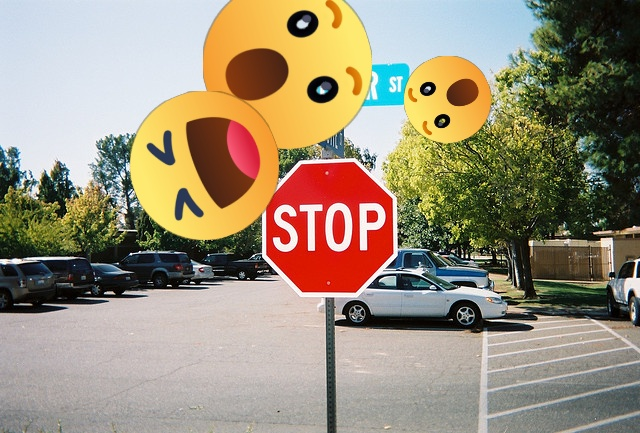haha: (130, 91, 279, 240)
wow: (203, 0, 372, 149), (404, 56, 491, 143)
